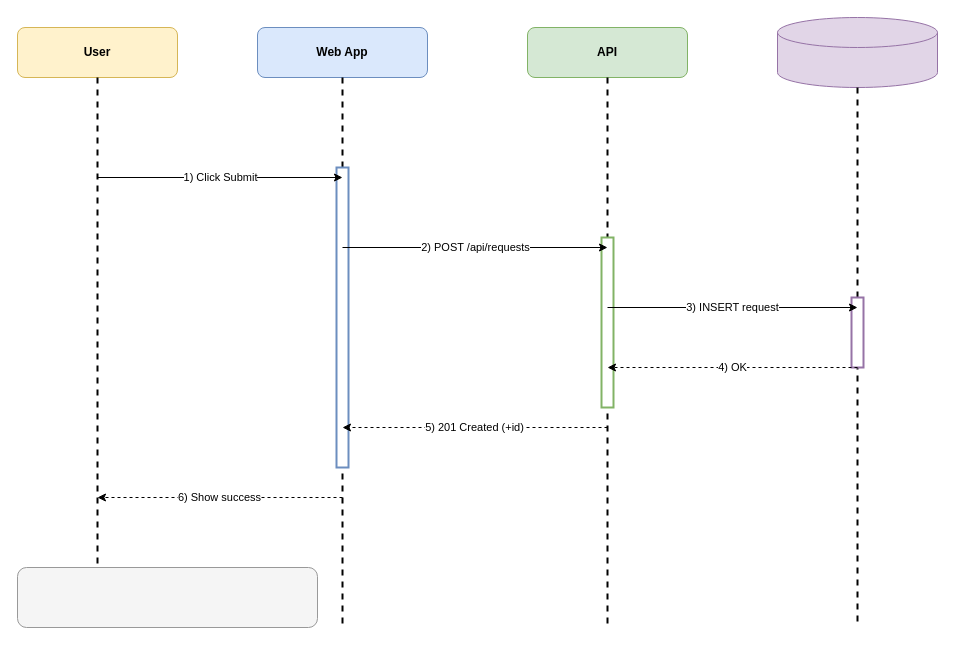
Image size: 955x647. Some labels were removed from this diagram. Each missing label, with the centre of its shape:
"DB" goes at (857,52).
"High-level flow only Details in Detailed Design" goes at (167,597).
